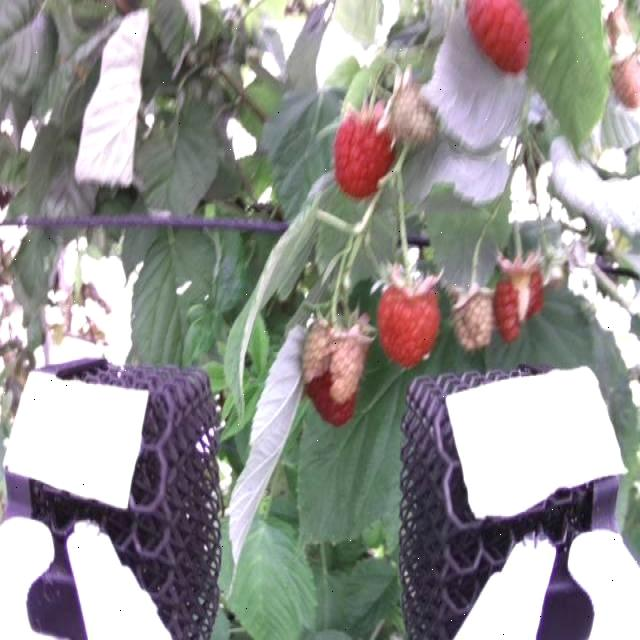Riped berries: (376, 255, 446, 361), (333, 103, 398, 195), (464, 0, 537, 81), (492, 251, 552, 341), (304, 366, 364, 428)
